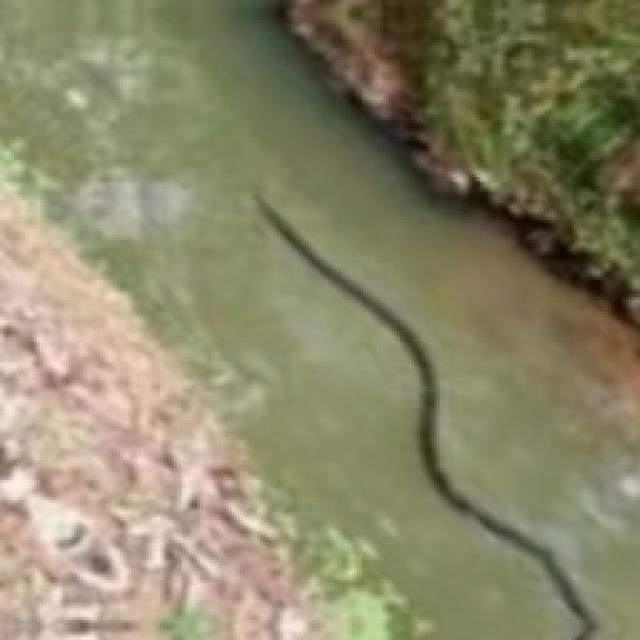king cobra: (254, 194, 597, 637)
